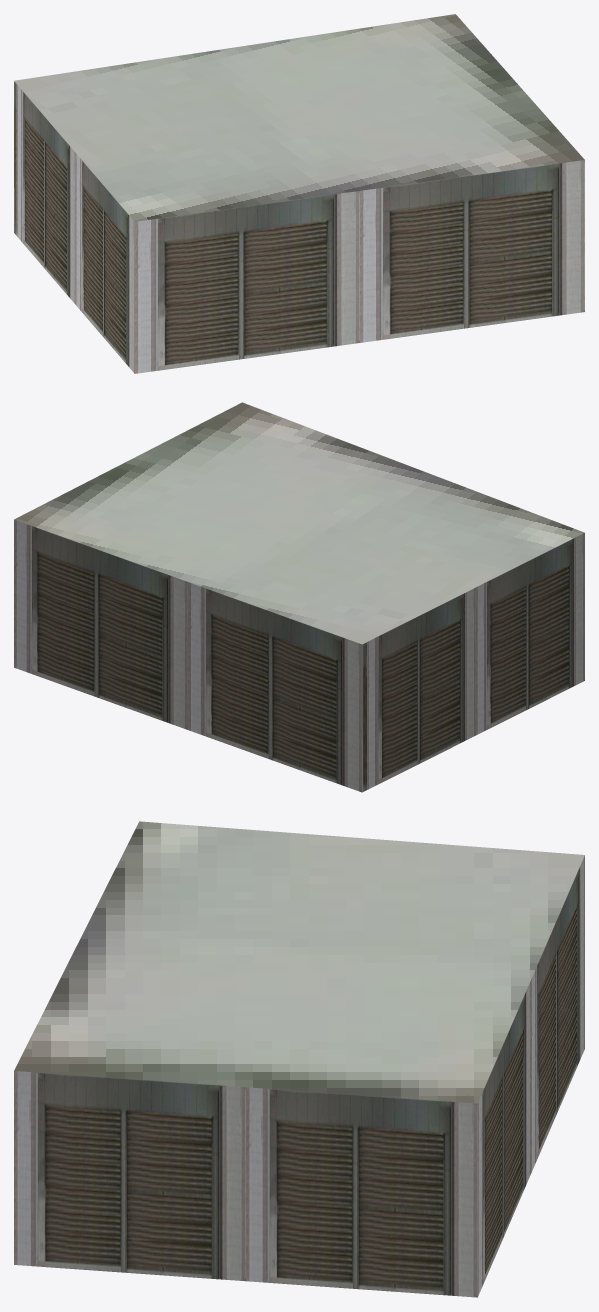
File: E_1SK534PNAL.dae
3 views of the same model, one above another, from view 1: azimuth 30°, elevation 25°; view 2: azimuth 150°, elevation 25°; view 3: azimuth 270°, elevation 25° (orthographic). The views are drawn at different scales.
Parts seen in each view (by area): view 1: SketchUp (×4); view 2: SketchUp (×5); view 3: SketchUp (×3).
Boxes of the visible parts, x1,y1,x2,y2 form: SketchUp (×4): [14, 14, 584, 373]; SketchUp (×5): [14, 402, 584, 792]; SketchUp (×3): [14, 821, 584, 1297].
Bounding box in the file's own units: 9.11 × 7.79 × 2.92.
2 materials, 2 textured.
